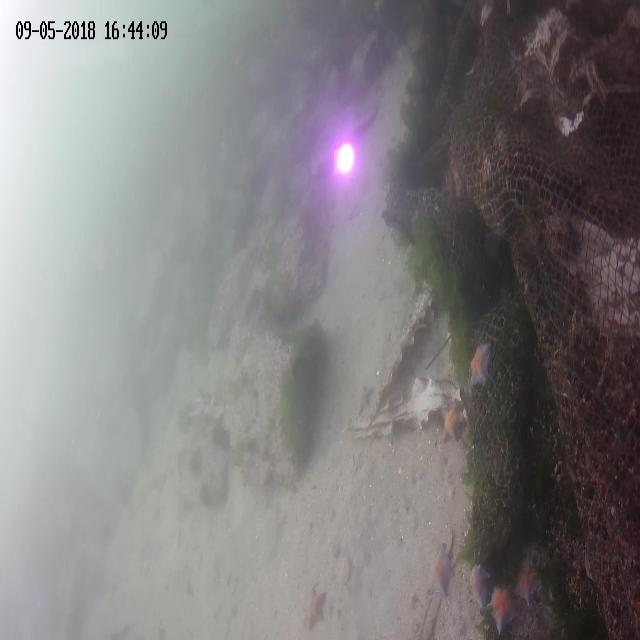starfish: (425, 542, 455, 596), (489, 584, 517, 635), (516, 556, 540, 605), (468, 342, 492, 386), (304, 582, 326, 628), (439, 402, 465, 439), (468, 564, 488, 607), (356, 381, 374, 415), (582, 547, 592, 580)
